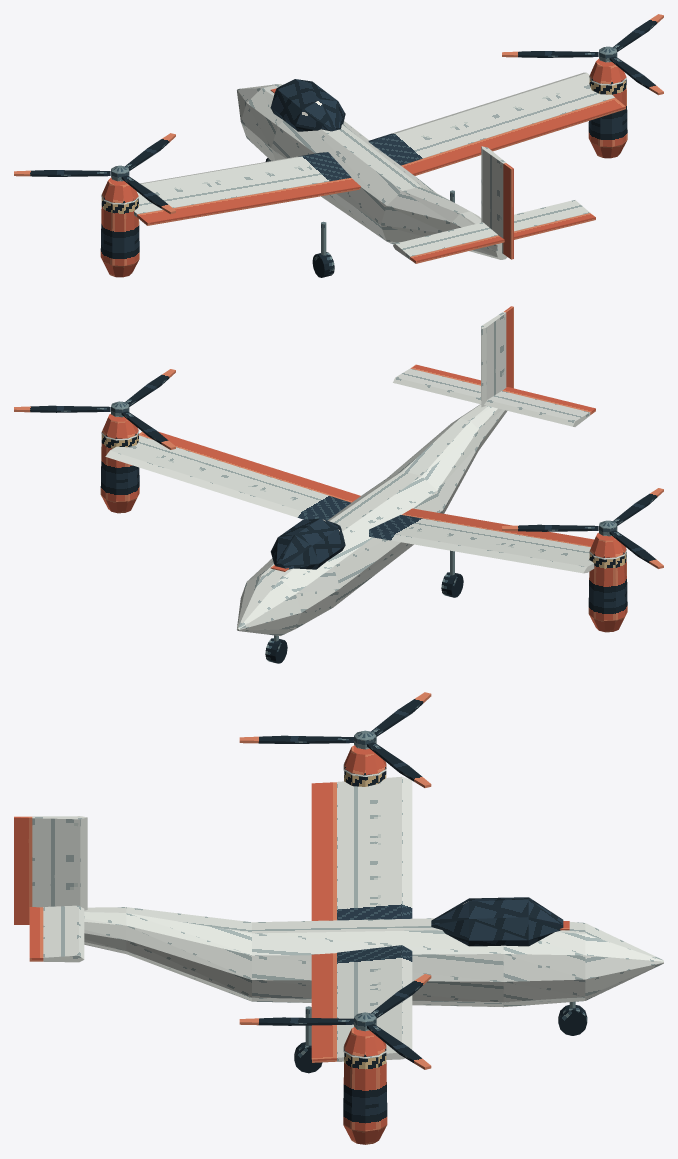
File: kestrel.glb
3 views of the same model, one above another, from view 1: azimuth 30°, elevation 25°; view 2: azimuth 150°, elevation 25°; view 3: azimuth 270°, elevation 25° (orthographic). The views are drawn at different scales.
Parts seen in each view (by area): view 1: fuselage, wing_right_skin, wing_left_skin, nacelle_skin_left, flaperon_right_skin, flaperon_left_skin, canopy, tail_skin, nacelle_skin_right, fin_skin, elevator_skin, rudder_skin (+7 smaller); view 2: fuselage, wing_right_skin, wing_left_skin, tail_skin, nacelle_skin_left, nacelle_skin_right, canopy, fin_skin, flaperon_right_skin, flaperon_left_skin, elevator_skin, blade_right_1 (+4 smaller); view 3: fuselage, wing_left_skin, wing_right_skin, fin_skin, canopy, nacelle_skin_right, flaperon_left_skin, flaperon_right_skin, tail_skin, rudder_skin, nacelle_skin_left, blade_right_0 (+7 smaller).
Part boxes in pixels (left/top/right/bottom): fuselage: left=237, top=84, right=507, bottom=259; wing_right_skin: left=368, top=72, right=614, bottom=165; wing_left_skin: left=134, top=152, right=351, bottom=216; nacelle_skin_left: left=100, top=177, right=139, bottom=277; flaperon_right_skin: left=401, top=98, right=625, bottom=175; flaperon_left_skin: left=137, top=178, right=360, bottom=225; canopy: left=270, top=79, right=345, bottom=131; tail_skin: left=393, top=200, right=589, bottom=259; nacelle_skin_right: left=588, top=58, right=627, bottom=158; fin_skin: left=481, top=146, right=505, bottom=253; elevator_skin: left=410, top=213, right=595, bottom=263; rudder_skin: left=503, top=163, right=513, bottom=259; fuselage: left=237, top=404, right=507, bottom=635; wing_right_skin: left=105, top=435, right=351, bottom=520; wing_left_skin: left=369, top=515, right=594, bottom=573; tail_skin: left=393, top=368, right=590, bottom=426; nacelle_skin_left: left=588, top=532, right=627, bottom=632; nacelle_skin_right: left=100, top=414, right=139, bottom=513; canopy: left=270, top=518, right=345, bottom=569; fin_skin: left=481, top=312, right=506, bottom=407; flaperon_right_skin: left=138, top=431, right=360, bottom=502; flaperon_left_skin: left=401, top=508, right=625, bottom=547; elevator_skin: left=410, top=364, right=595, bottom=414; blade_right_1: left=14, top=405, right=110, bottom=412; fuselage: left=84, top=907, right=663, bottom=1007; wing_left_skin: left=337, top=776, right=412, bottom=920; wing_right_skin: left=337, top=945, right=412, bottom=1061; fin_skin: left=32, top=816, right=87, bottom=910; canopy: left=431, top=897, right=563, bottom=946; nacelle_skin_right: left=343, top=1027, right=387, bottom=1144; flaperon_left_skin: left=311, top=782, right=336, bottom=920; flaperon_right_skin: left=311, top=953, right=336, bottom=1062; tail_skin: left=43, top=905, right=84, bottom=962; rudder_skin: left=14, top=816, right=32, bottom=924; nacelle_skin_left: left=344, top=745, right=386, bottom=786; blade_right_0: left=239, top=1017, right=353, bottom=1025.
Size of the model in its own units: 14.12 by 3.79 by 10.34.
Materials: 1 (1 with a texture image).
